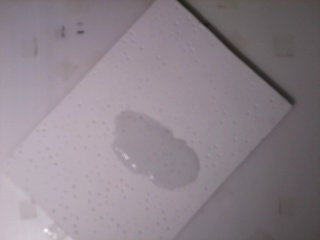Water_detected: (127, 128, 188, 186)
